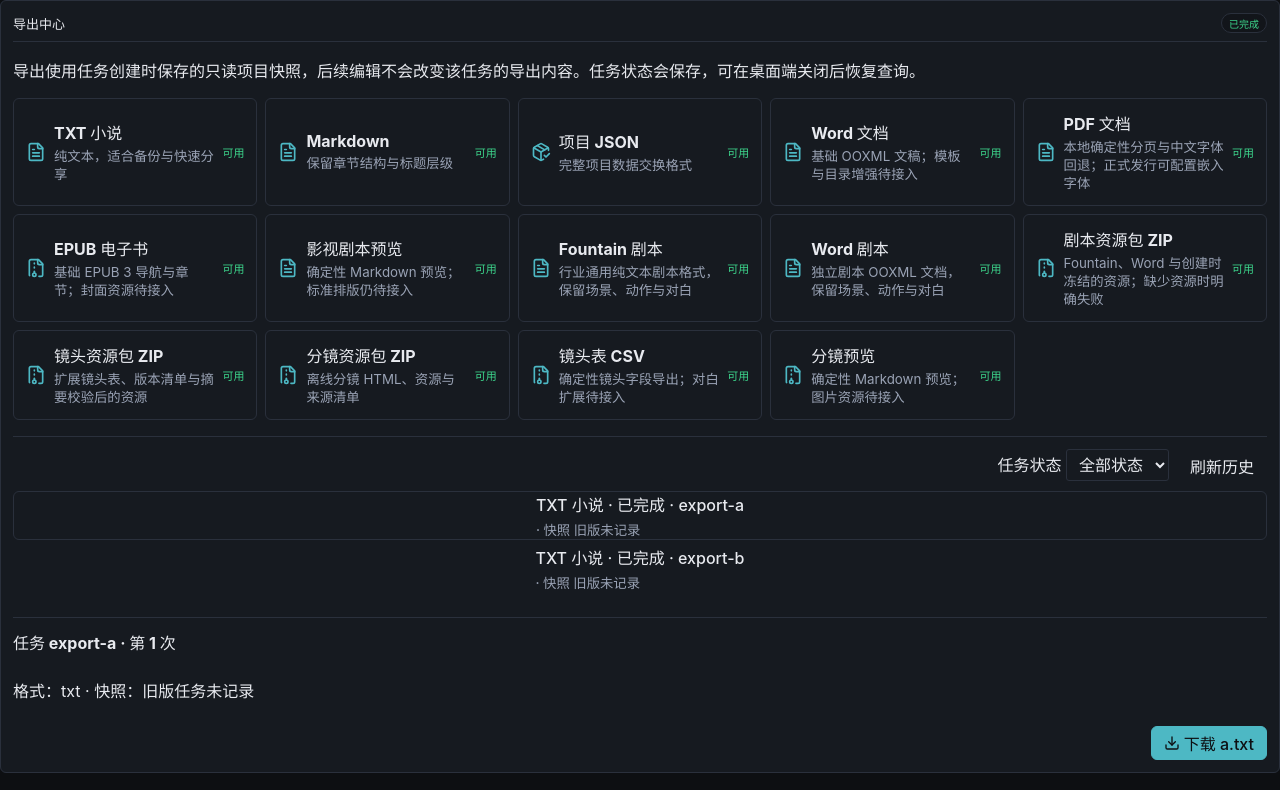
it: Export download feedback › reports browser handoff only after requesting it and explains where to confirm the saved file
Click the button "下载 a.txt". click: x=1209, y=743
box: [1151,726,1267,760]
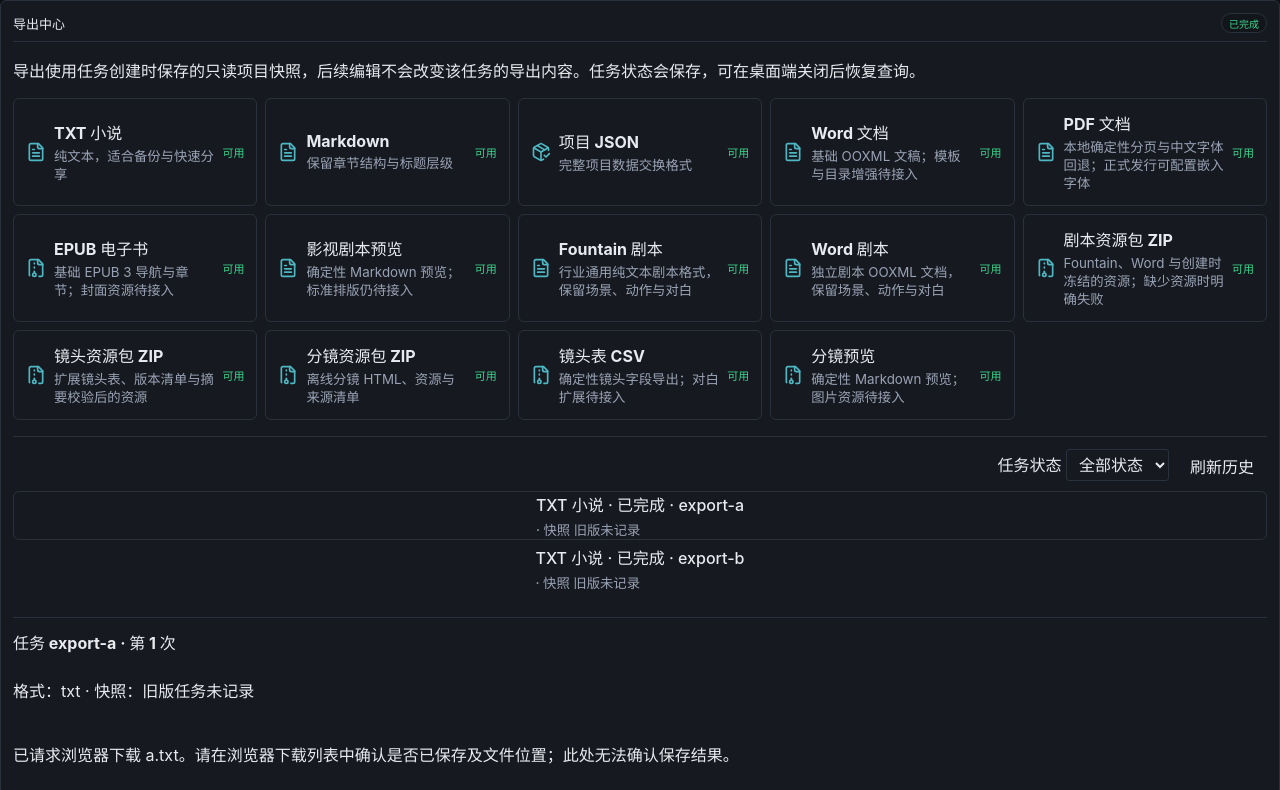
Check: the text "已请求浏览器下载 a.txt。请在浏览器下载列表中确认是否已保存及文件位置；此处无法确认保存结果。" is shown, box [13,745,739,765]
